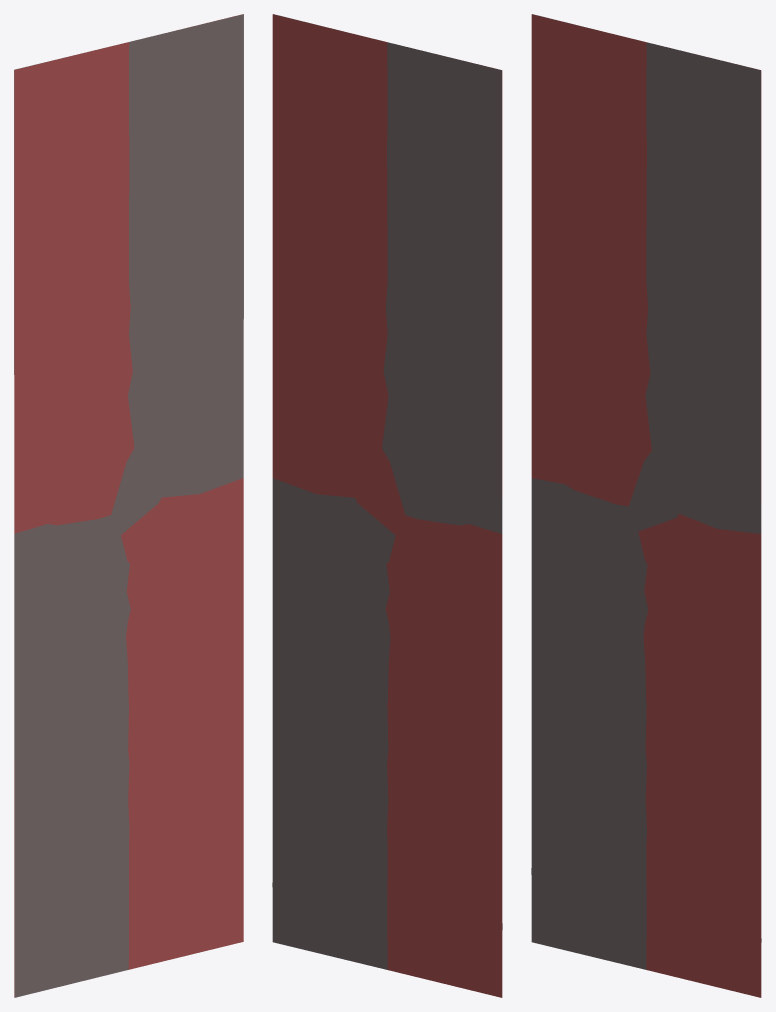
The model's file is warping-rectangle-12.377-3.2024-114.glb.
The picture shows the model from 3 angles, left to right: view 1: azimuth 30°, elevation 25°; view 2: azimuth 150°, elevation 25°; view 3: azimuth 330°, elevation 25°; orthographic projection.
Parts seen in each view (by area): view 1: undeformed cross-section, cross-section with warping; view 2: undeformed cross-section, cross-section with warping; view 3: undeformed cross-section, cross-section with warping.
Part boxes in pixels (bbox=[...]): undeformed cross-section: bbox=[14, 14, 243, 997]; cross-section with warping: bbox=[14, 14, 243, 997]; undeformed cross-section: bbox=[272, 14, 502, 997]; cross-section with warping: bbox=[272, 14, 502, 969]; undeformed cross-section: bbox=[531, 14, 761, 997]; cross-section with warping: bbox=[531, 14, 761, 969].
Size of the model in its own units: 0.0032 by 0.0124 by 1.48e-05.
